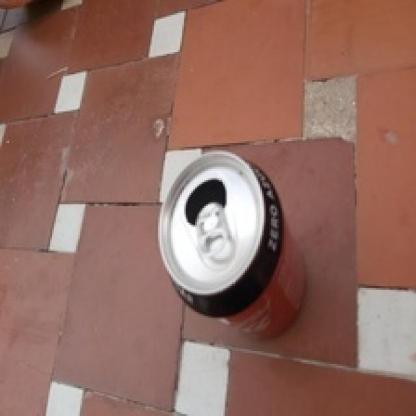Can: (161, 153, 308, 343)
